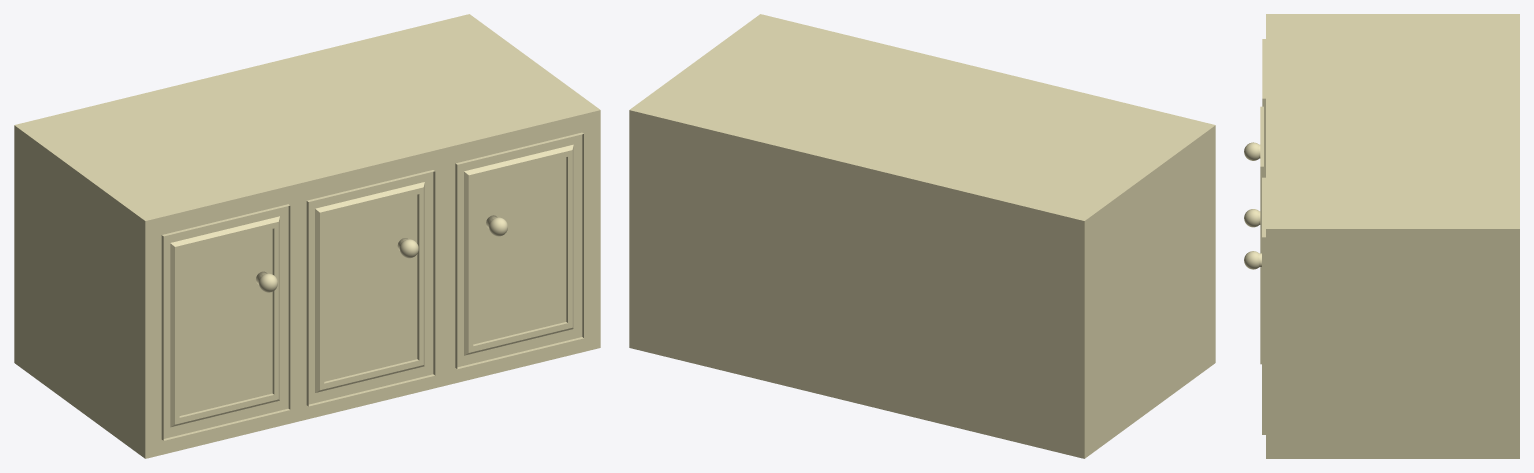
File: placard.dae
3 renders of one model, left to right at view 1: azimuth 30°, elevation 25°; view 2: azimuth 150°, elevation 25°; view 3: azimuth 270°, elevation 25°, orthographic. The views are drawn at different scales.
Parts seen in each view (by area): view 1: Cube, Plane_002, Plane_003, Plane_001; view 2: Cube; view 3: Cube, Plane_001, Plane_002, Plane_003.
Part boxes in pixels (left/top/right/bottom): Cube: left=14, top=14, right=600, bottom=458; Plane_002: left=306, top=170, right=435, bottom=406; Plane_003: left=161, top=204, right=290, bottom=440; Plane_001: left=455, top=132, right=583, bottom=369; Cube: left=629, top=14, right=1215, bottom=458; Cube: left=1266, top=14, right=1519, bottom=458; Plane_001: left=1262, top=177, right=1265, bottom=434; Plane_002: left=1260, top=106, right=1263, bottom=364; Plane_003: left=1262, top=39, right=1265, bottom=177.
Bounding box in the file's own units: 4.01 × 2.17 × 2.
